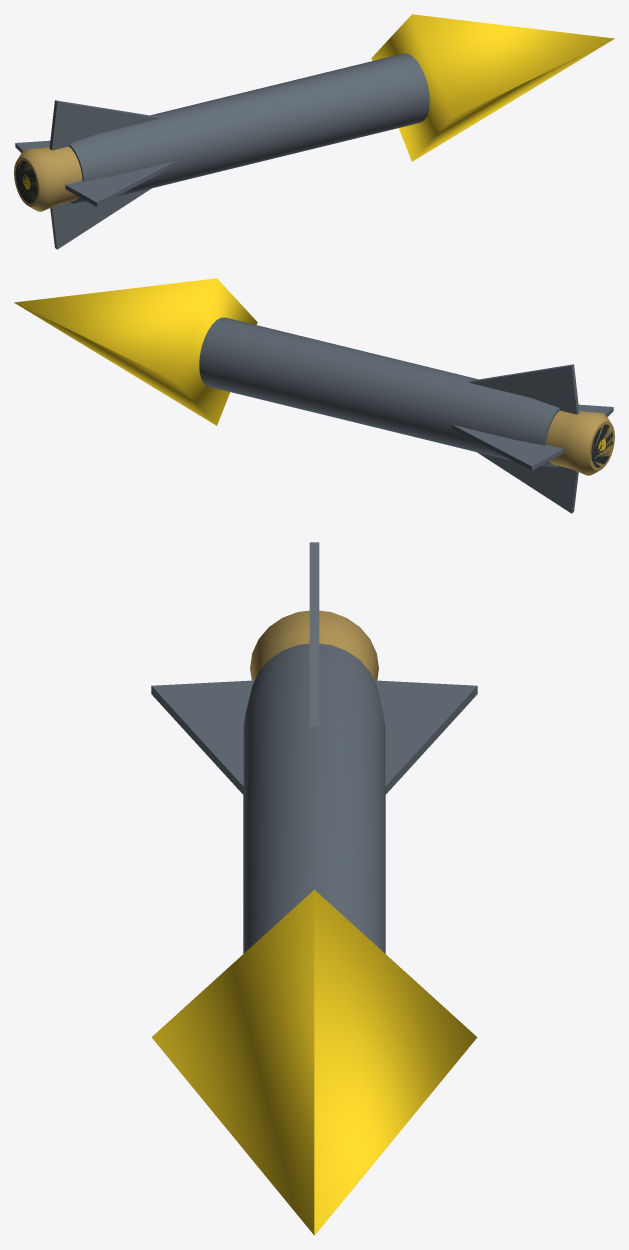
File: weapons_v2.fbx
3 renders of one model, top to bottom at view 1: azimuth 30°, elevation 25°; view 2: azimuth 150°, elevation 25°; view 3: azimuth 270°, elevation 25°, orthographic. The views are drawn at different scales.
Visible parts, largest first — view 1: rocket, aim_arrow, shell; view 2: rocket, aim_arrow, shell; view 3: aim_arrow, rocket, shell.
Boxes of the visible parts, box(x1,y1,x2,y2) form: rocket: box(15, 53, 429, 249); aim_arrow: box(23, 14, 614, 189); shell: box(14, 146, 82, 211); rocket: box(199, 317, 613, 513); aim_arrow: box(14, 278, 605, 453); shell: box(546, 410, 614, 475); aim_arrow: box(151, 890, 477, 1235); rocket: box(151, 542, 477, 953); shell: box(250, 610, 378, 680).
Bounding box in the file's own units: 2 × 0.48 × 0.48.
